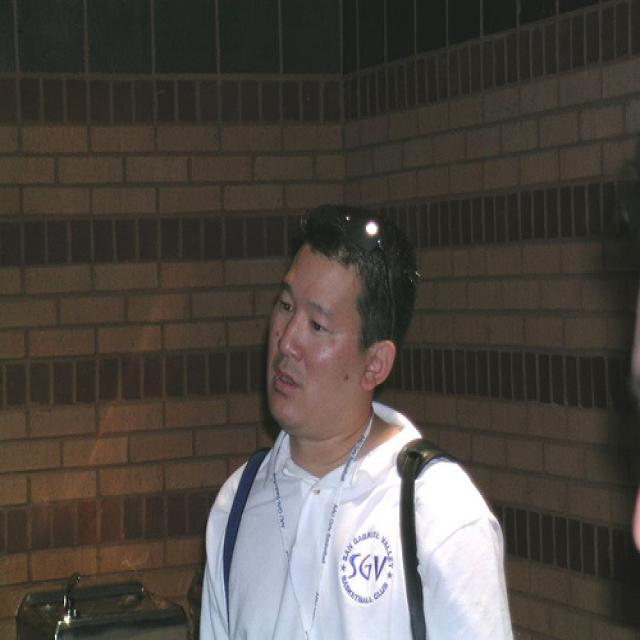person: (200, 201, 515, 639)
